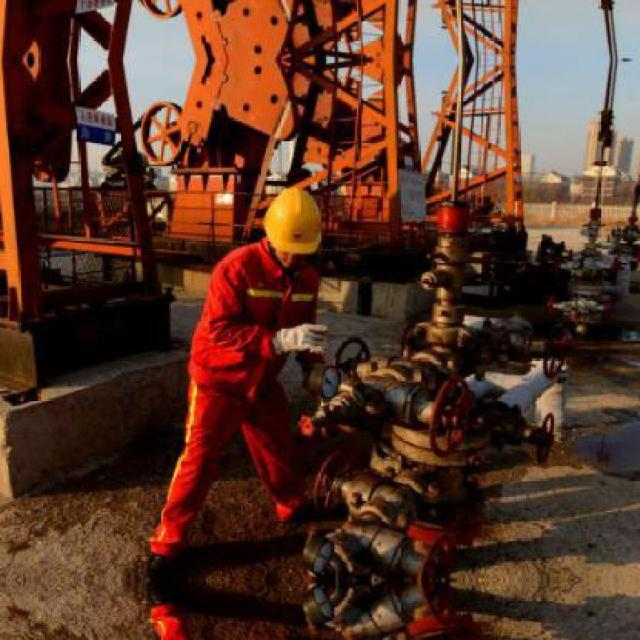Reflective-Jacket: (154, 245, 337, 492)
Safety-Helmet: (251, 178, 338, 264)
